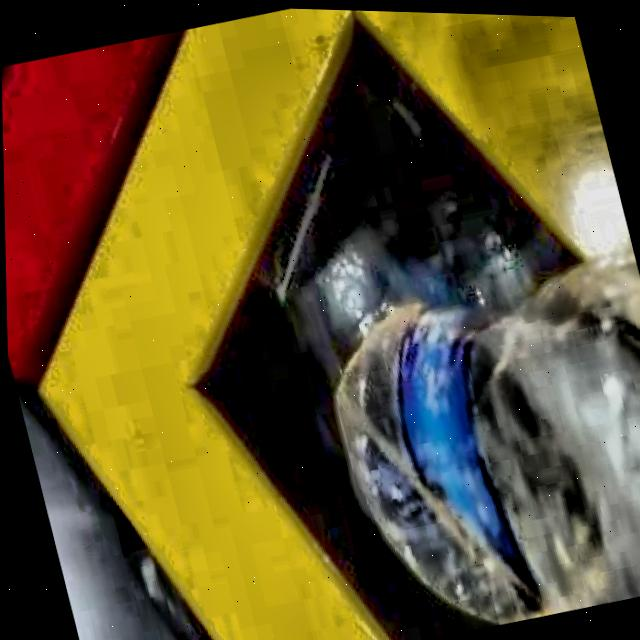plastic: (334, 251, 640, 622)
